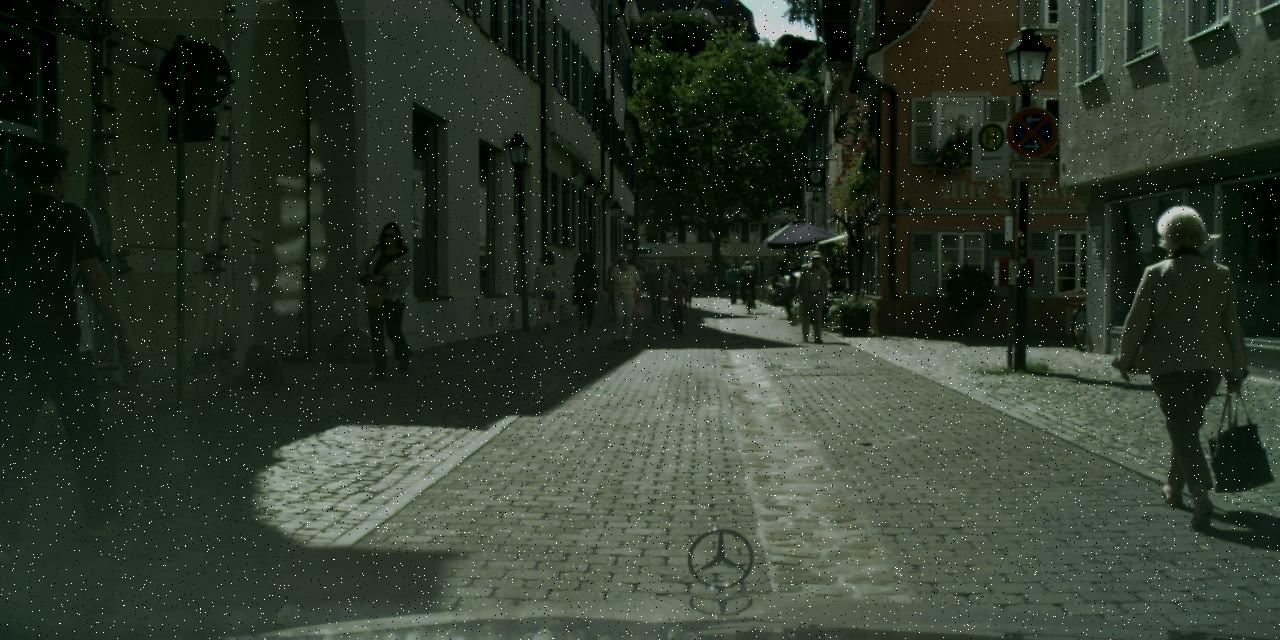ped: (0, 140, 137, 544), (1120, 204, 1246, 510), (362, 222, 424, 374), (794, 250, 831, 342), (605, 252, 641, 339), (531, 250, 564, 330), (568, 252, 600, 331), (602, 256, 629, 322), (664, 258, 688, 318), (643, 261, 666, 318), (738, 260, 756, 306), (679, 263, 697, 308), (725, 263, 741, 303), (632, 264, 645, 297), (777, 260, 787, 286)
